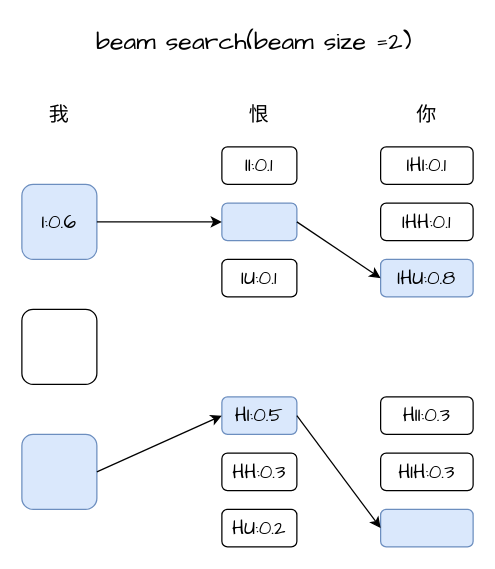
Some shapes in this 495 by 569 pixel diagram are drawn without their labels. Each missing label, with the centre of its shape:
H:0.3: the point at 59,471
HIU:0.4: the point at 426,527
IH:0.8: the point at 259,221
U:0.1: the point at 59,346
